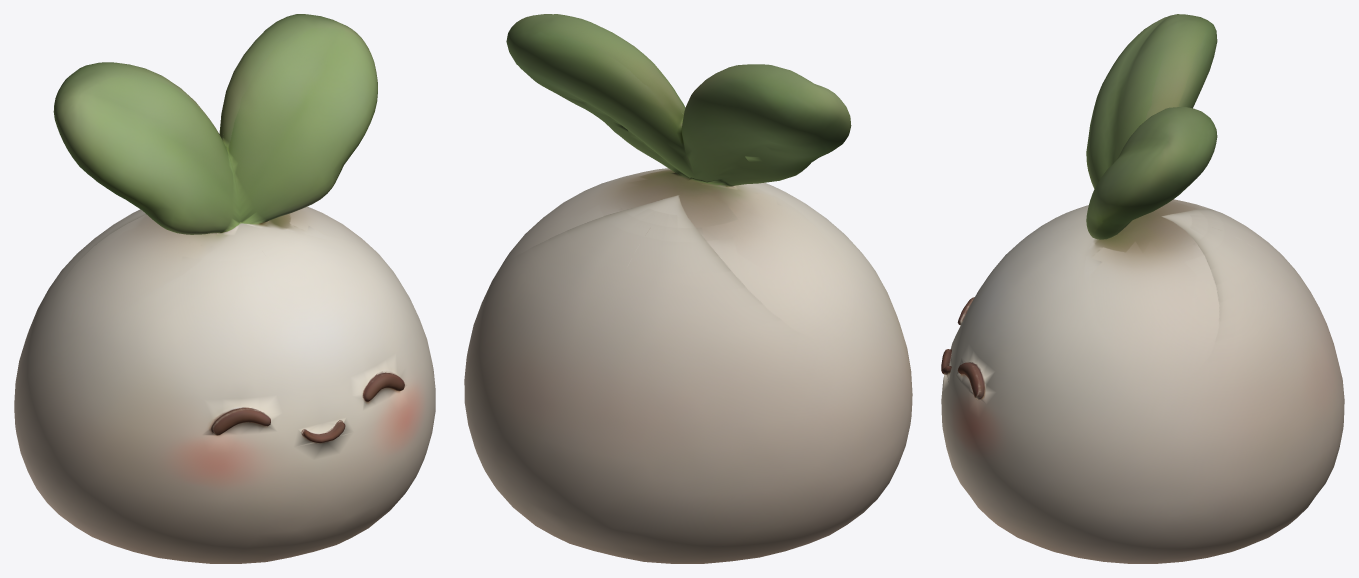
Rendered from sprout_stage2.fbx.
The picture shows the model from 3 angles, left to right: view 1: azimuth 30°, elevation 25°; view 2: azimuth 150°, elevation 25°; view 3: azimuth 270°, elevation 25°; orthographic projection. The views are drawn at different scales.
Visible parts, largest first — view 1: mesh_rep_0_ori_repair; view 2: mesh_rep_0_ori_repair; view 3: mesh_rep_0_ori_repair.
Part boxes in pixels (left/top/right/bottom): mesh_rep_0_ori_repair: left=14, top=14, right=435, bottom=563; mesh_rep_0_ori_repair: left=464, top=14, right=912, bottom=563; mesh_rep_0_ori_repair: left=941, top=14, right=1344, bottom=563.
Bounding box in the file's own units: 89.53 × 104 × 86.29.
Materials: 1 (1 with a texture image).
